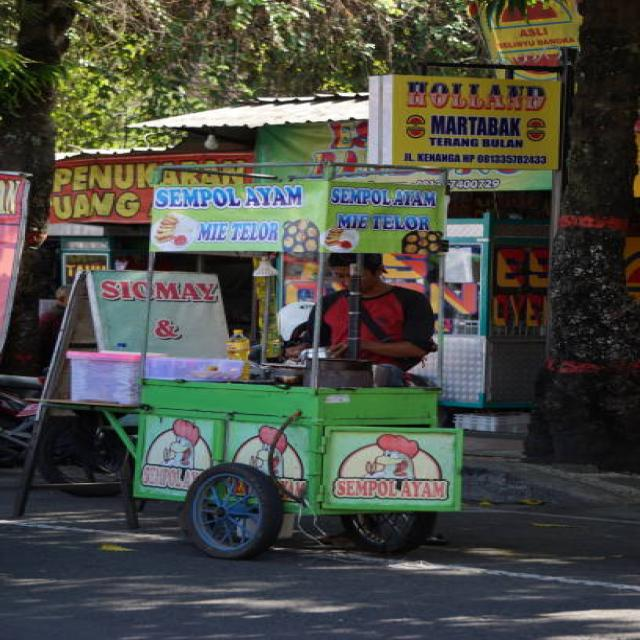Emperan: (33, 117, 502, 604)
